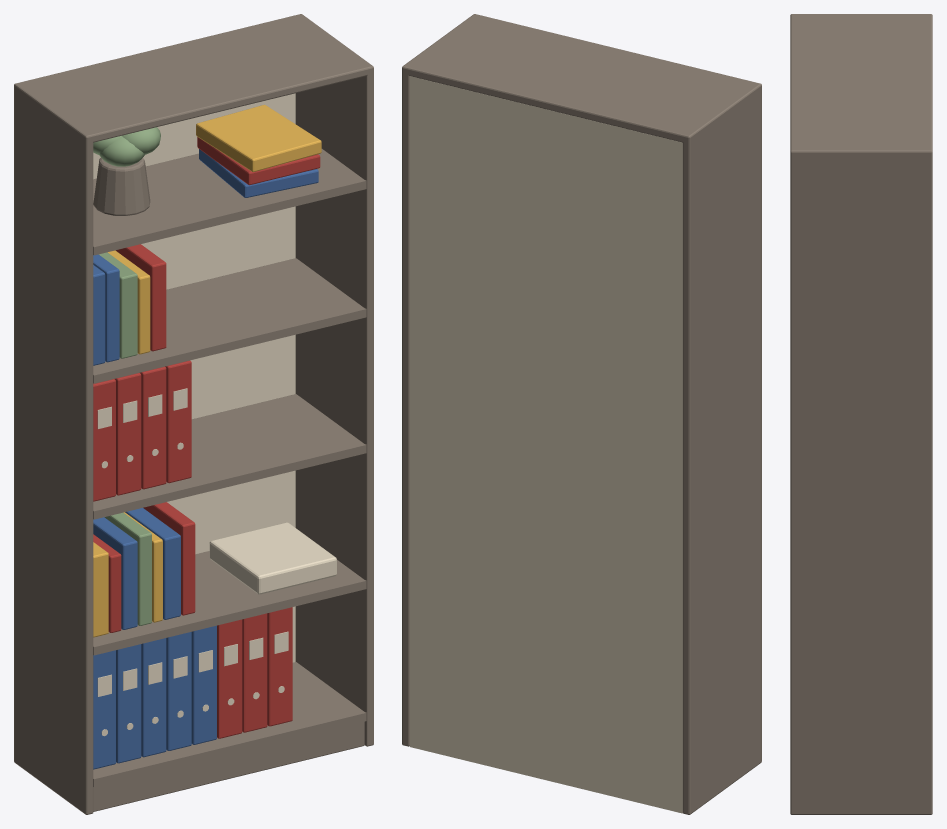
Rendered from hh_cat_office_shelf.glb.
The picture shows the model from 3 angles, left to right: view 1: azimuth 30°, elevation 25°; view 2: azimuth 150°, elevation 25°; view 3: azimuth 270°, elevation 25°; orthographic projection. The views are drawn at different scales.
Parts seen in each view (by area): view 1: side_panel, side_panel.001, shelf_cap, back_panel, shelf.003, shelf.002, shelf.004, plinth, shelf.001, paper_stack, shelf, book_flat.002 (+33 smaller); view 2: back_panel, side_panel, shelf_cap, side_panel.001; view 3: side_panel.001, shelf_cap.
Boxes of the visible parts, bbox=[...] form: side_panel: bbox=[14, 85, 93, 814]; side_panel.001: bbox=[295, 68, 373, 746]; shelf_cap: bbox=[14, 14, 373, 142]; back_panel: bbox=[93, 93, 295, 662]; shelf.003: bbox=[93, 258, 365, 382]; shelf.002: bbox=[93, 394, 365, 517]; shelf.004: bbox=[93, 149, 365, 253]; plinth: bbox=[93, 721, 364, 811]; shelf.001: bbox=[93, 551, 365, 653]; paper_stack: bbox=[209, 522, 336, 594]; shelf: bbox=[93, 662, 365, 785]; book_flat.002: bbox=[196, 104, 321, 171]; back_panel: bbox=[410, 76, 682, 813]; side_panel: bbox=[682, 85, 761, 814]; shelf_cap: bbox=[402, 14, 761, 142]; side_panel.001: bbox=[402, 67, 409, 746]; side_panel.001: bbox=[790, 151, 932, 814]; shelf_cap: bbox=[790, 14, 932, 157].
Size of the model in its own units: 0.8 by 1.8 by 0.35.
